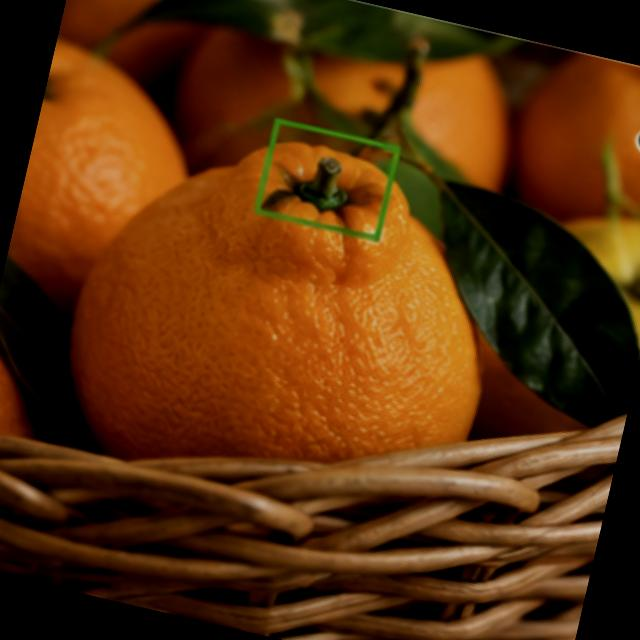Fruit-Stem-Detection: (254, 118, 401, 238)
